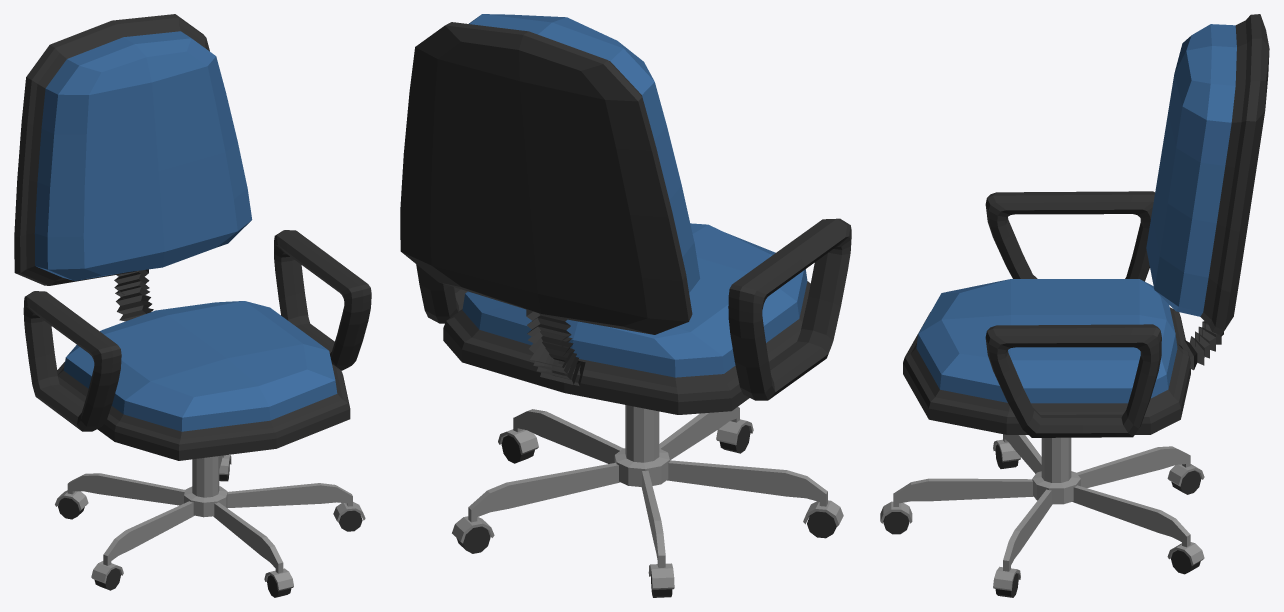
Rendered from Office Chair.glb.
3 renders of one model, left to right at view 1: azimuth 30°, elevation 25°; view 2: azimuth 150°, elevation 25°; view 3: azimuth 270°, elevation 25°, orthographic. The views are drawn at different scales.
Visible parts, largest first — view 1: OfficeChair; view 2: OfficeChair; view 3: OfficeChair.
Boxes of the visible parts, left/top/right/bottom form: OfficeChair: left=14, top=14, right=371, bottom=597; OfficeChair: left=400, top=14, right=851, bottom=597; OfficeChair: left=880, top=14, right=1269, bottom=597.
Bounding box in the file's own units: 0.7217 × 1.13 × 0.8072.
